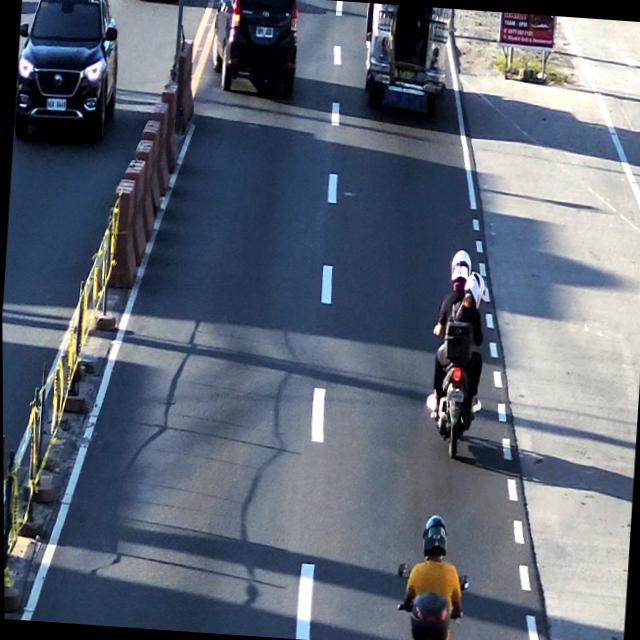Car: (204, 0, 304, 96)
Jeep: (362, 3, 454, 109)
License-Plate: (252, 22, 275, 39), (443, 390, 465, 404)
Motorcycle: (420, 248, 493, 464), (394, 512, 475, 640)
